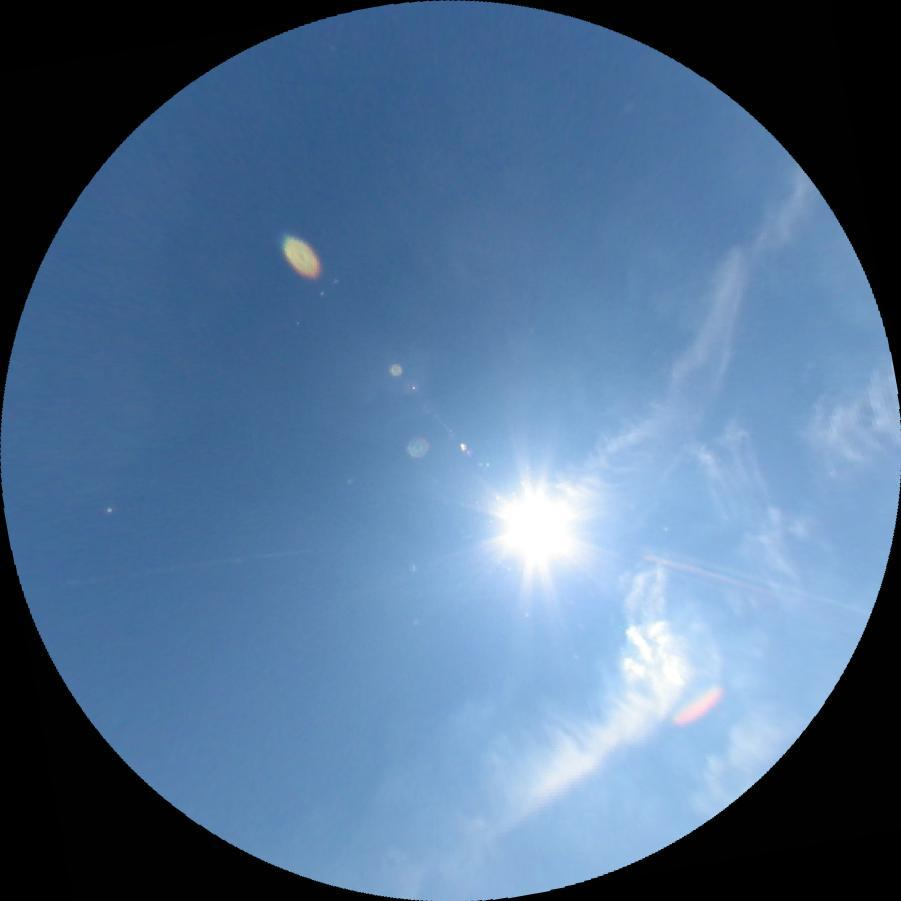contrail veryold: (561, 156, 854, 532)
parasite: (25, 545, 310, 591), (639, 550, 787, 601)
sun: (483, 472, 589, 578)
